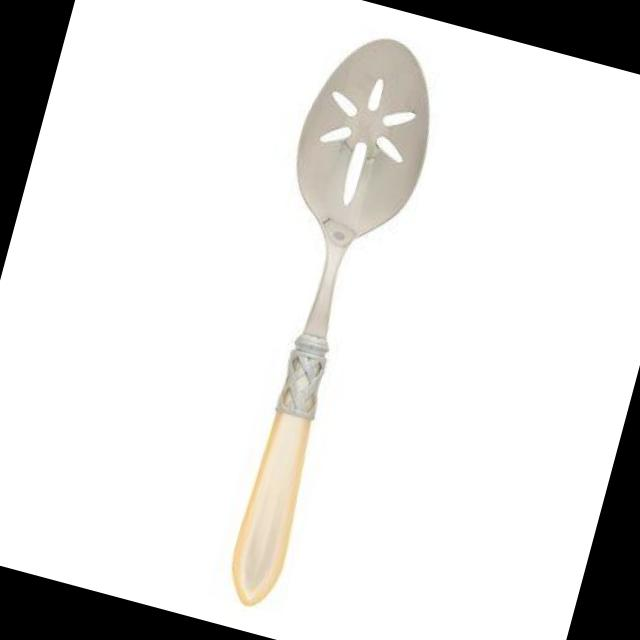spoon: (168, 18, 456, 623)
